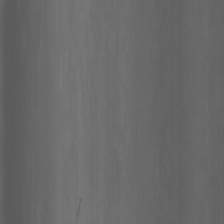water_spot: (65, 185, 86, 223)
